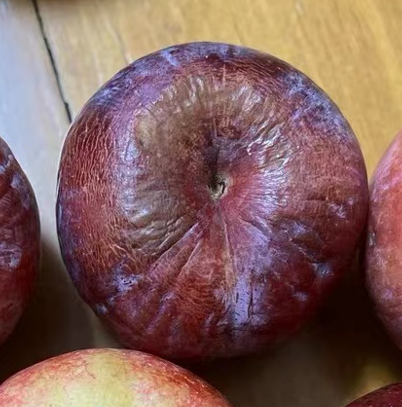plum_C: (57, 41, 369, 366)
